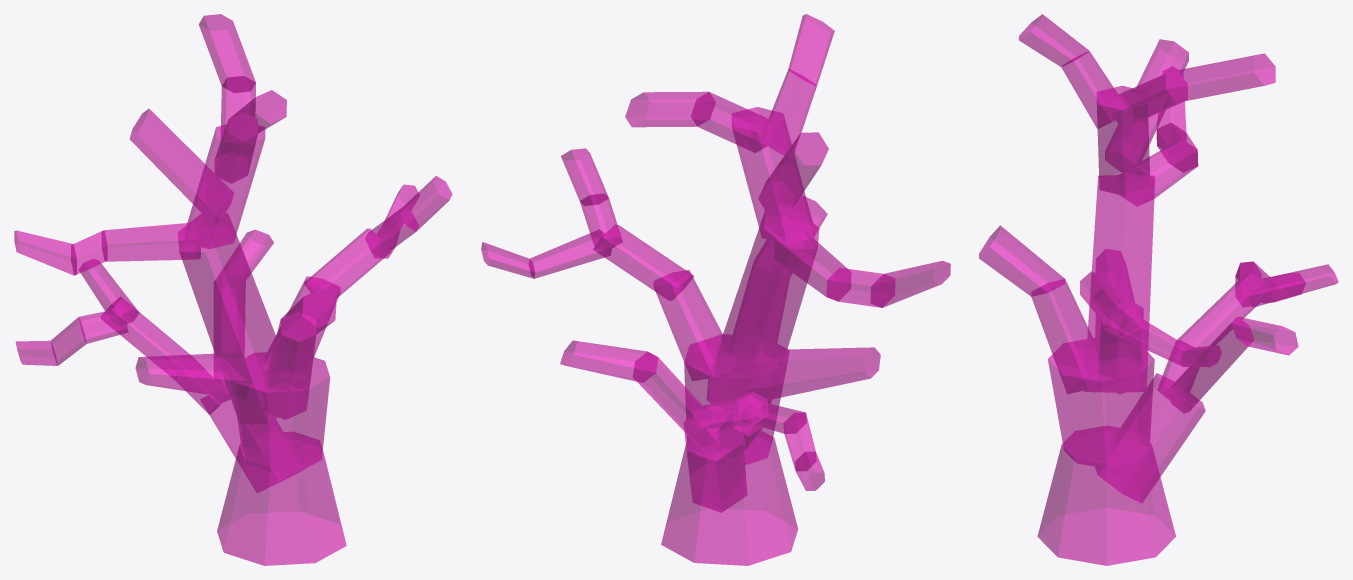
Rendered from SM_Env_Tree_Dead_01_Collision.fbx.
The picture shows the model from 3 angles, left to right: view 1: azimuth 30°, elevation 25°; view 2: azimuth 150°, elevation 25°; view 3: azimuth 270°, elevation 25°; orthographic projection. The views are drawn at different scales.
Parts seen in each view (by area): view 1: SM_Env_Tree_Dead_01_Collision; view 2: SM_Env_Tree_Dead_01_Collision; view 3: SM_Env_Tree_Dead_01_Collision.
Boxes of the visible parts, box(x1,y1,x2,y2) form: SM_Env_Tree_Dead_01_Collision: box(14, 14, 452, 565); SM_Env_Tree_Dead_01_Collision: box(481, 14, 950, 565); SM_Env_Tree_Dead_01_Collision: box(979, 14, 1338, 565).
Bounding box in the file's own units: 963 × 1048 × 687.
